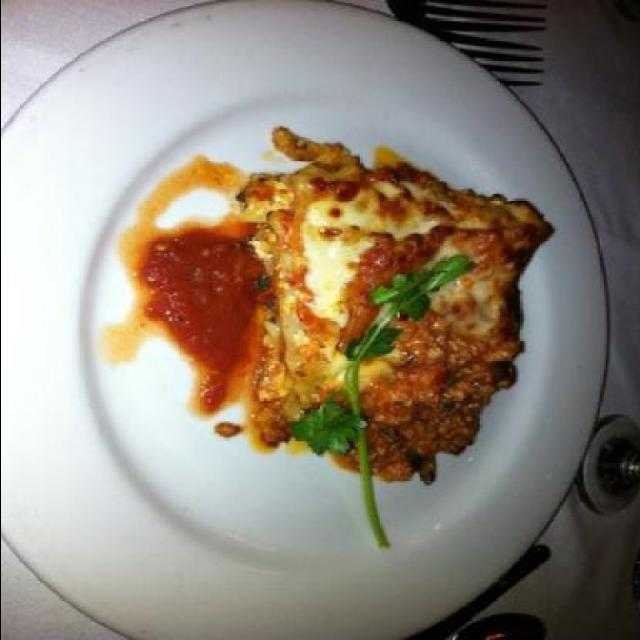Lasagna: (149, 135, 566, 498)
